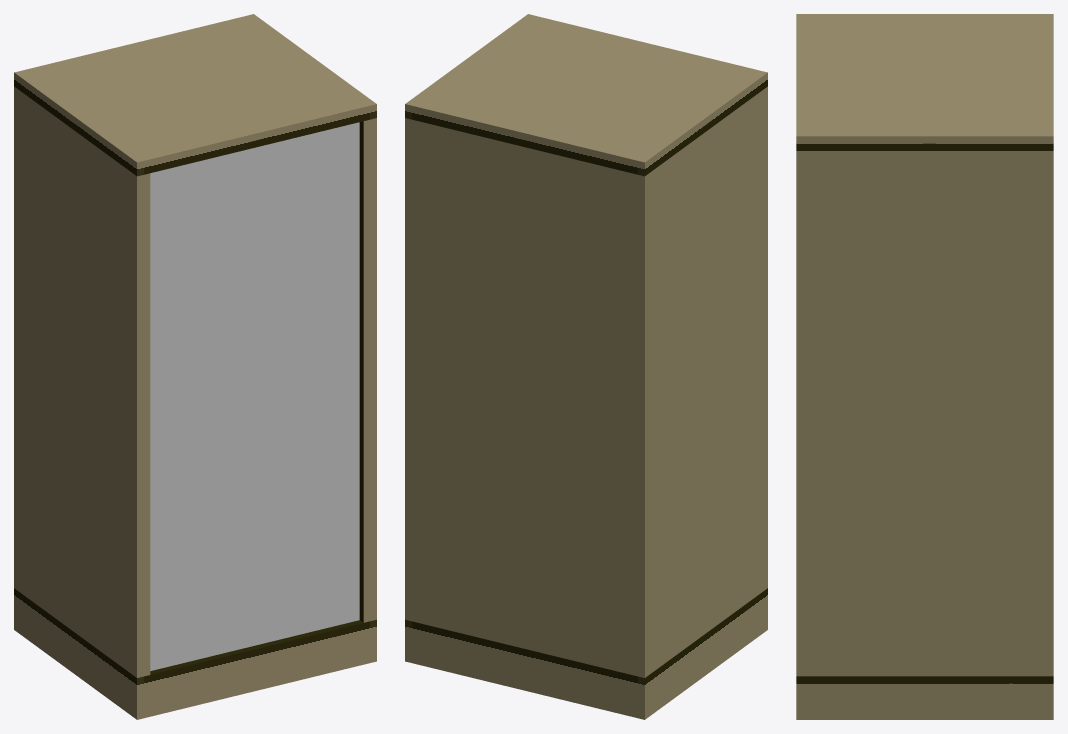
The model's file is prop_cabinet_01.obj.
3 renders of one model, left to right at view 1: azimuth 30°, elevation 25°; view 2: azimuth 150°, elevation 25°; view 3: azimuth 270°, elevation 25°, orthographic. The views are drawn at different scales.
Parts seen in each view (by area): view 1: entity1_brush1, entity2_brush0, entity3_brush0, entity4_brush0, entity1_brush3, entity1_brush0, entity1_brush2, entity1_brush4; view 2: entity1_brush4, entity1_brush1, entity1_brush3, entity1_brush0; view 3: entity1_brush2, entity1_brush3, entity1_brush4, entity1_brush0.
Boxes of the visible parts, x1,y1,x2,y2 form: entity1_brush1: (29, 98, 150, 677); entity2_brush0: (150, 285, 359, 503); entity3_brush0: (150, 453, 359, 670); entity4_brush0: (150, 122, 359, 336); entity1_brush3: (14, 14, 376, 176); entity1_brush0: (14, 588, 376, 719); entity1_brush2: (359, 118, 376, 622); entity1_brush4: (14, 86, 29, 598); entity1_brush4: (405, 118, 660, 677); entity1_brush1: (660, 86, 767, 666); entity1_brush3: (405, 14, 767, 176); entity1_brush0: (405, 588, 767, 719); entity1_brush2: (796, 151, 1021, 676); entity1_brush3: (796, 14, 1053, 150); entity1_brush4: (1021, 151, 1053, 676); entity1_brush0: (796, 676, 1053, 719).
Bounding box in the file's own units: 36 × 80 × 32.
